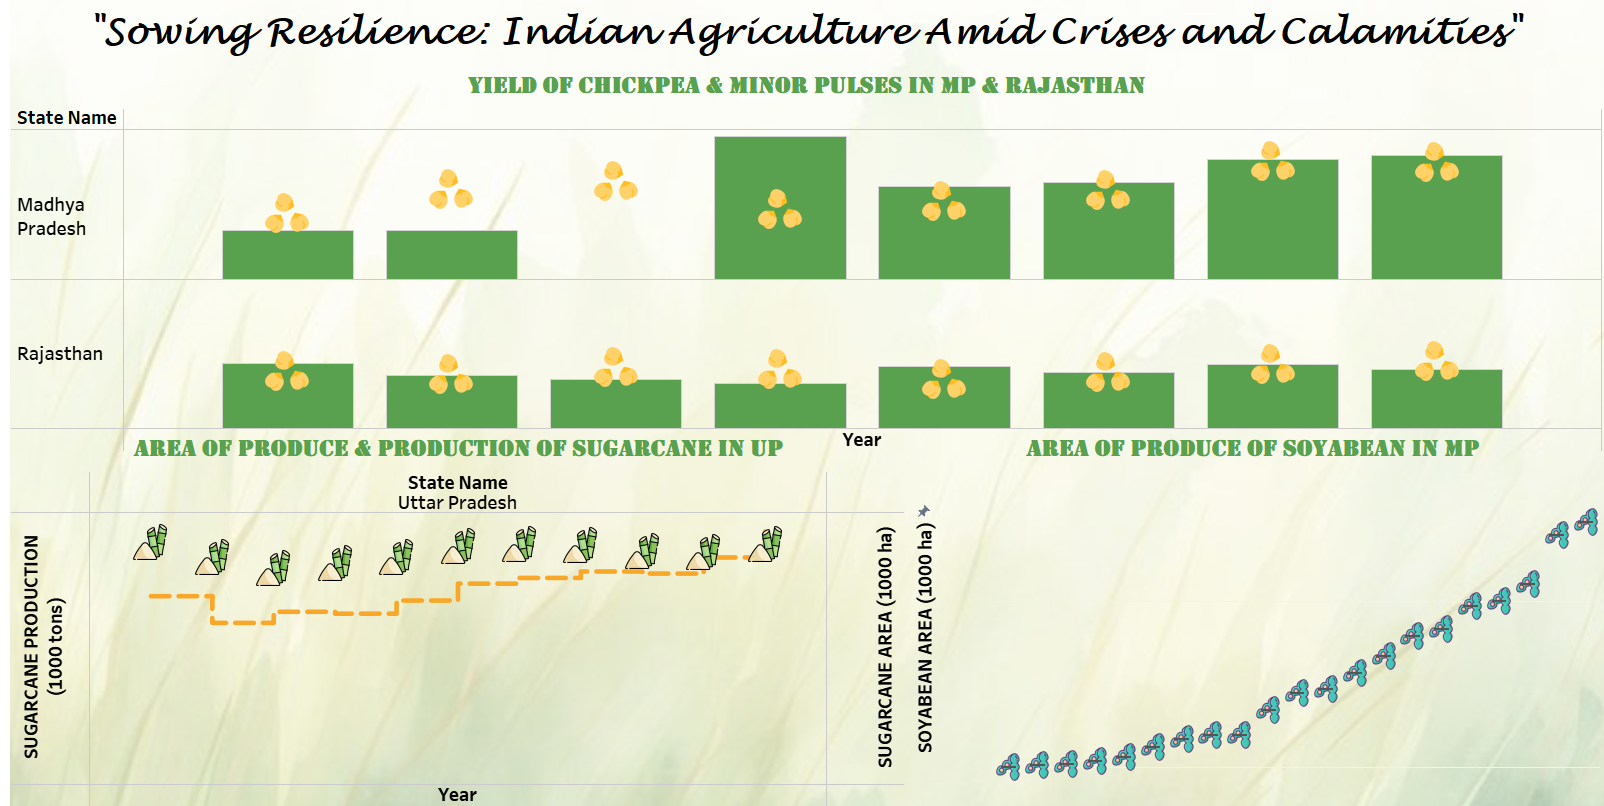

This screenshot's page, from the dashboard's own definition file:
{"tool":"tableau","page":{"name":"2","canvas":[1000,1000],"units":"permille","ordinal":1},"visuals":[{"type":"text","box":[3,0,998.2,80.7]},{"type":"worksheet","title":"Sheet 10","mark":"Automatic","rows":["State Name","MINOR PULSES YIELD (Kg per ha)","CHICKPEA YIELD (Kg per ha)"],"cols":["Year"],"box":[6.7,80.7,992.1,480.2]},{"type":"worksheet","title":"Sheet 9","mark":"Automatic","rows":["SUGARCANE PRODUCTION (1000 tons)","SUGARCANE AREA (1000 ha)"],"cols":["State Name","Year"],"box":[6.7,531,557.4,470.2]},{"type":"worksheet","title":"Sheet 12","mark":"Shape","rows":["SOYABEAN AREA (1000 ha)"],"cols":["Dist Name"],"box":[564.1,531,433.5,469]}]}

Visuals, with their boxes on the dashboard's canvas, which has no fixed pixel size, in thousandths of its width and height (x1, y1, x2, y2). These are canvas units, not pixel positions in the 1604x806 screenshot, which may show the page scaled, cropped or inside an application window:
text: bbox(3, 0, 1001, 81)
"Sheet 10" worksheet: bbox(7, 81, 999, 561)
"Sheet 9" worksheet: bbox(7, 531, 564, 1001)
"Sheet 12" worksheet (Shape marks): bbox(564, 531, 998, 1000)
